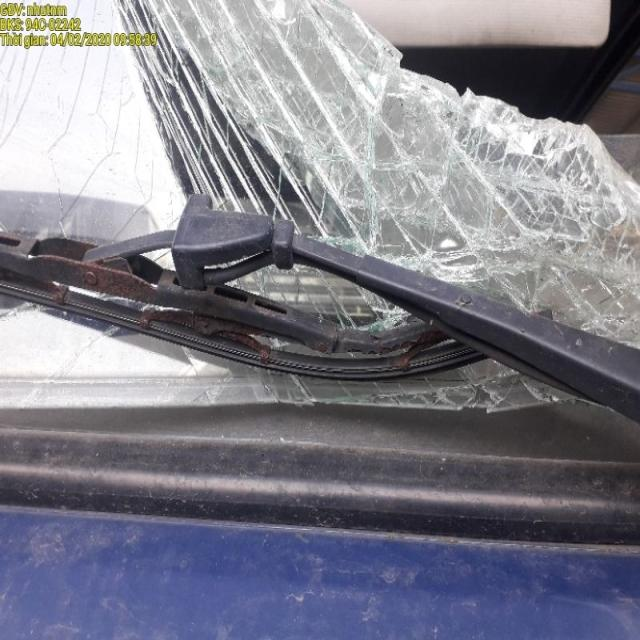Fissure: (1, 6, 550, 288), (1, 11, 217, 153), (550, 130, 640, 341)
